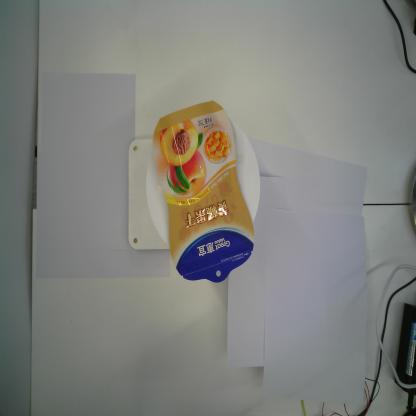Dried Fruit: (151, 99, 255, 284)
